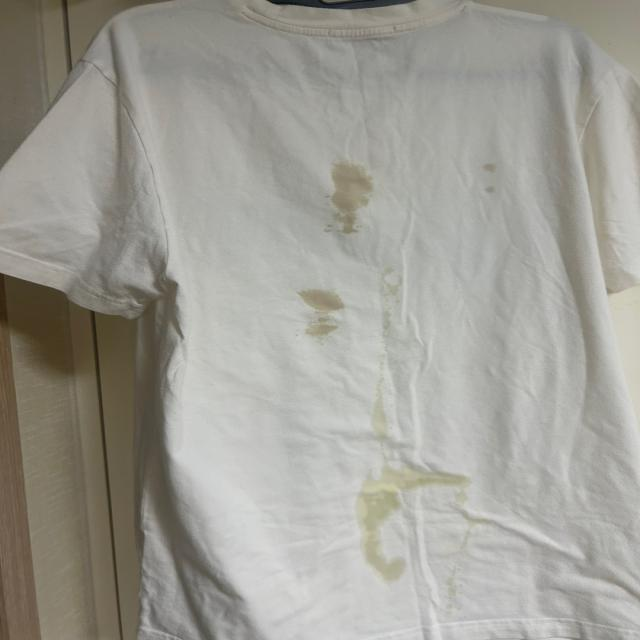stain: (330, 161, 378, 235), (360, 469, 470, 492), (294, 290, 346, 335), (473, 160, 517, 208), (354, 518, 396, 568), (345, 489, 397, 520), (371, 378, 395, 442), (374, 263, 402, 293), (378, 560, 407, 587), (446, 568, 458, 618)
